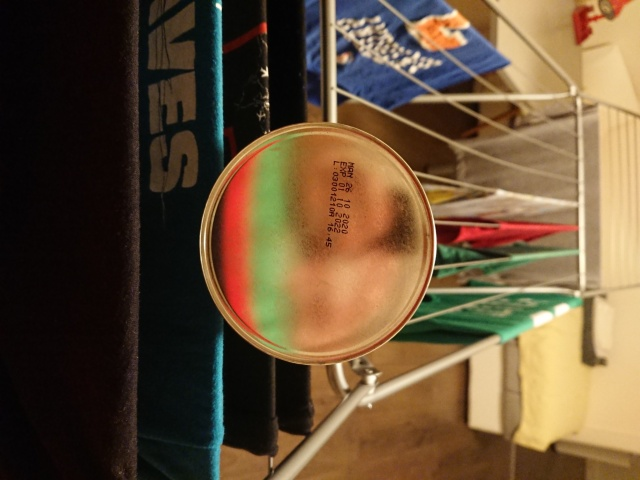Nescafe Classic 225g: (193, 118, 442, 370)
